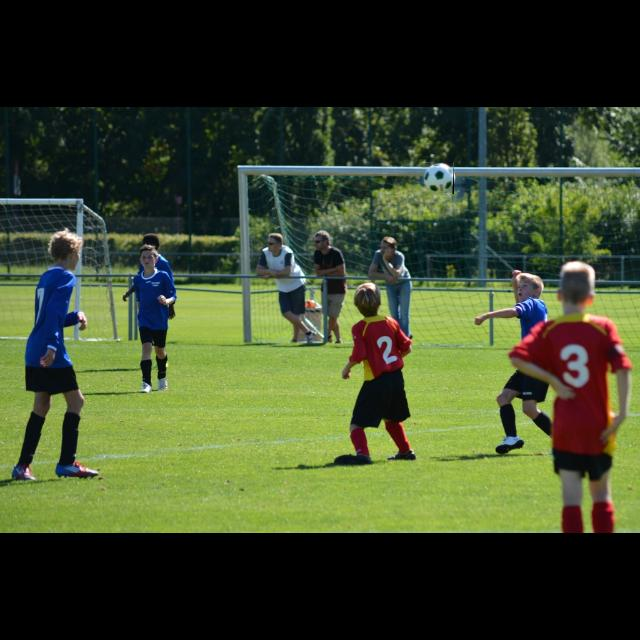Football: (422, 162, 454, 194)
